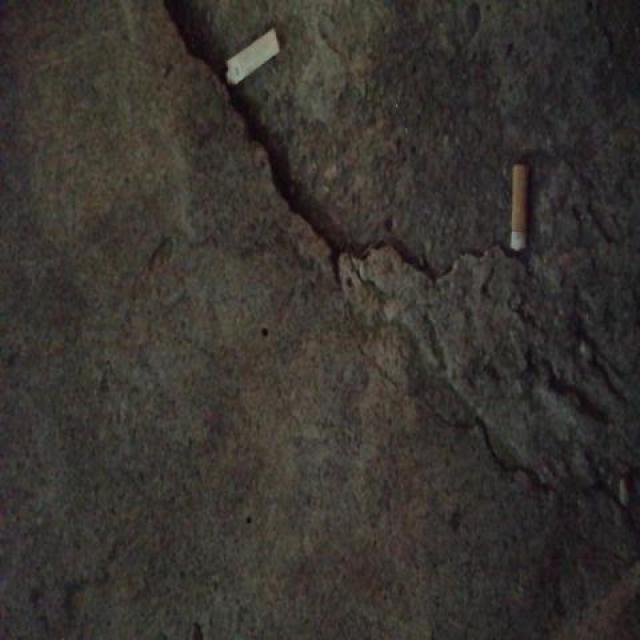non-organic waste: (222, 21, 283, 88), (505, 159, 535, 254)
